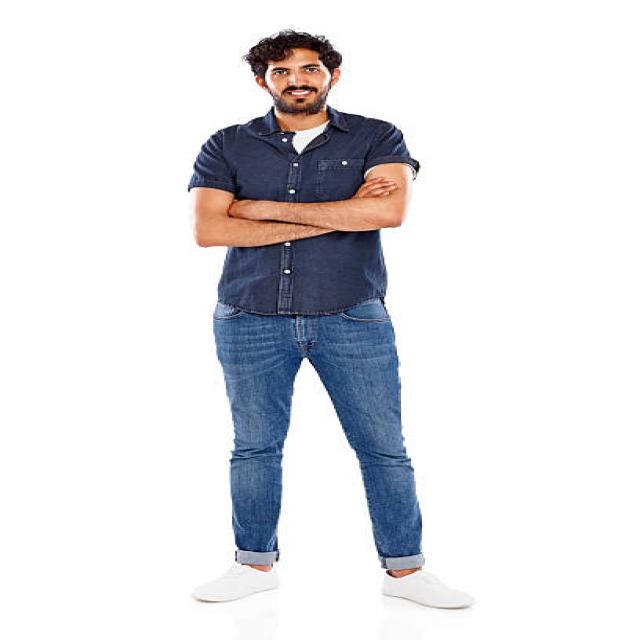Edited images: (173, 26, 488, 620)
